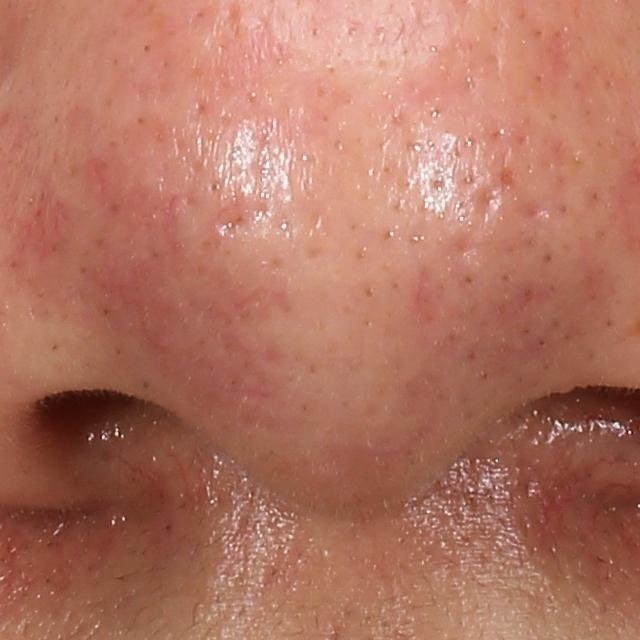atrophic_scar: (210, 197, 279, 241), (469, 185, 500, 223)
